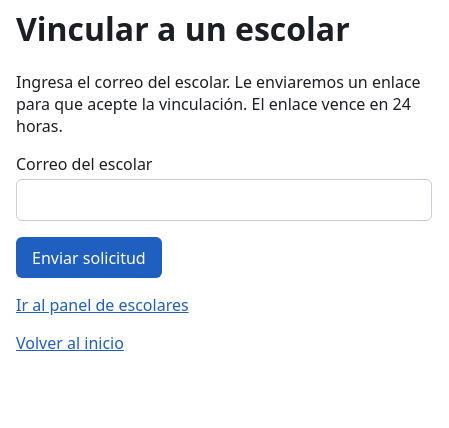
Test: I06: vincular escolar › muestra el error de validación del backend
The width and height of the screenshot is (449, 428).
Type "escolar@example.com" into the field labelled "Correo del escolar" at x=224, y=200, box [16,179,432,221]
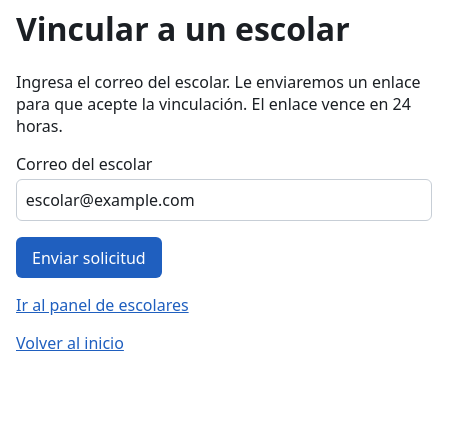
Click the button "Enviar solicitud" at x=89, y=258, box [16,237,162,278]
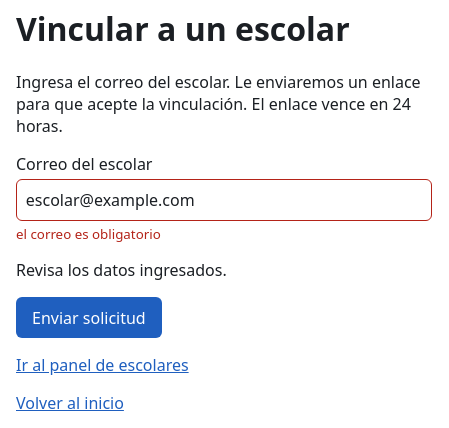
Result: the message "el correo es obligatorio" is shown at [16,225,161,243]
